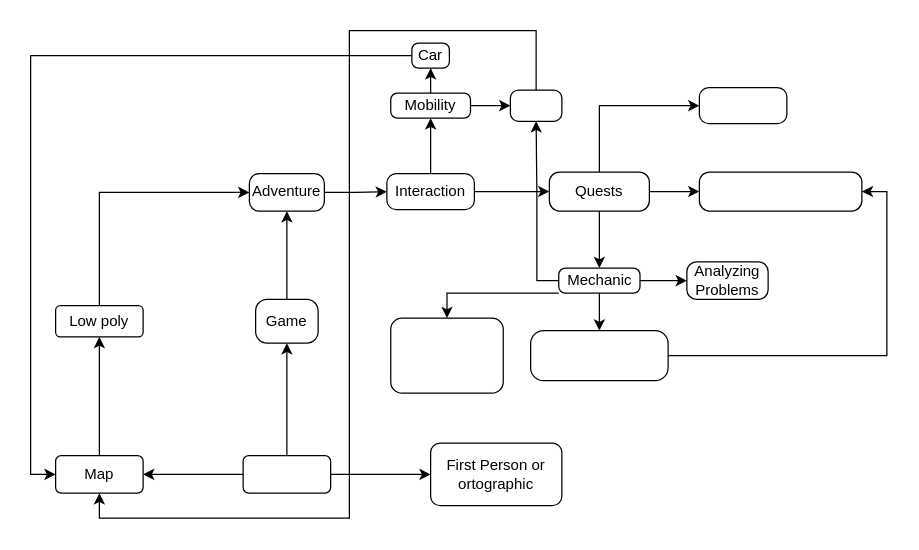
The diagram is 919 pixels wide and 550 high, and some of its shapes have lost their labels. Here are the shapes that lost their labels. From the top down, the centre of each, then its label:
point 535,105: Train
point 742,105: Collecting
point 780,191: Fighting (secondary)
point 446,355: Activating different types of machines
point 598,355: Buying or stealing parts you need
point 286,473: "Name"
